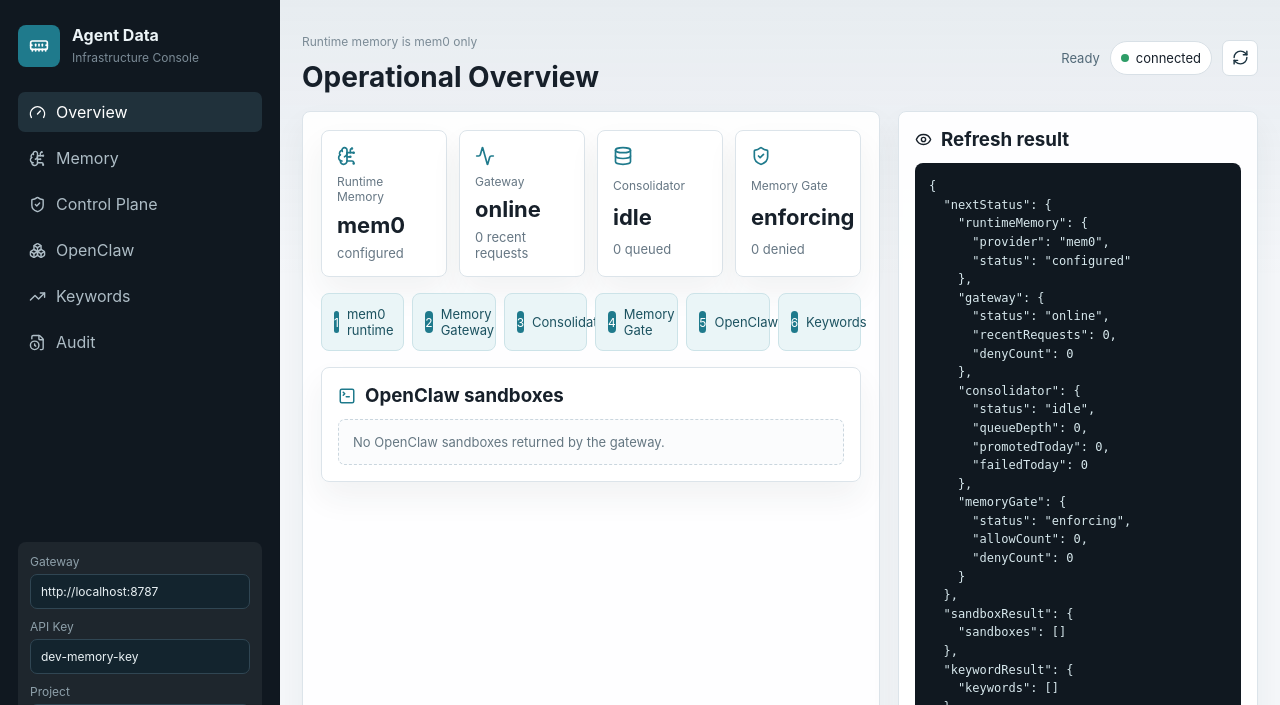
Test: App › renders backend empty states instead of demo data
Expected: the text "connected" is shown, x1=1110 y1=41 x2=1212 y2=75
Click the button "OpenClaw".
click(140, 250)  # box x1=18 y1=230 x2=262 y2=270
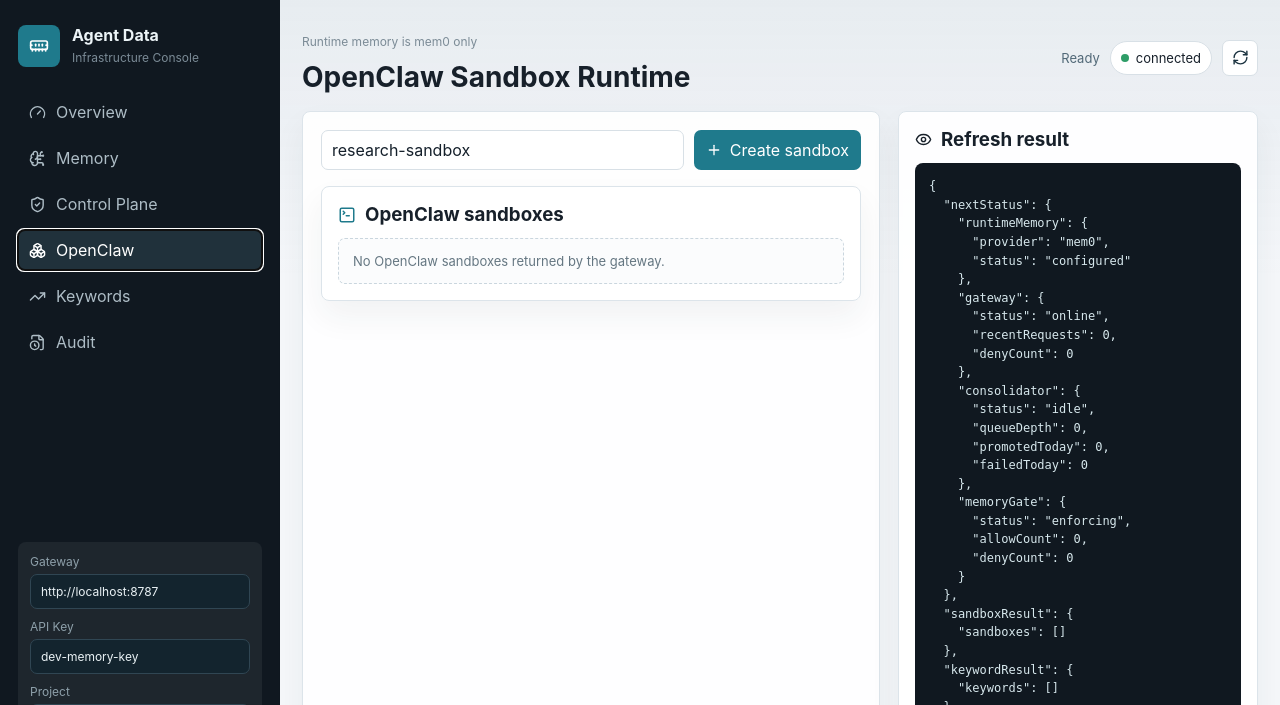
Expected: the text "No OpenClaw sandboxes returned by the gateway." is shown, x1=338 y1=238 x2=844 y2=284
Click the button "Keywords".
click(140, 296)  # box x1=18 y1=276 x2=262 y2=316
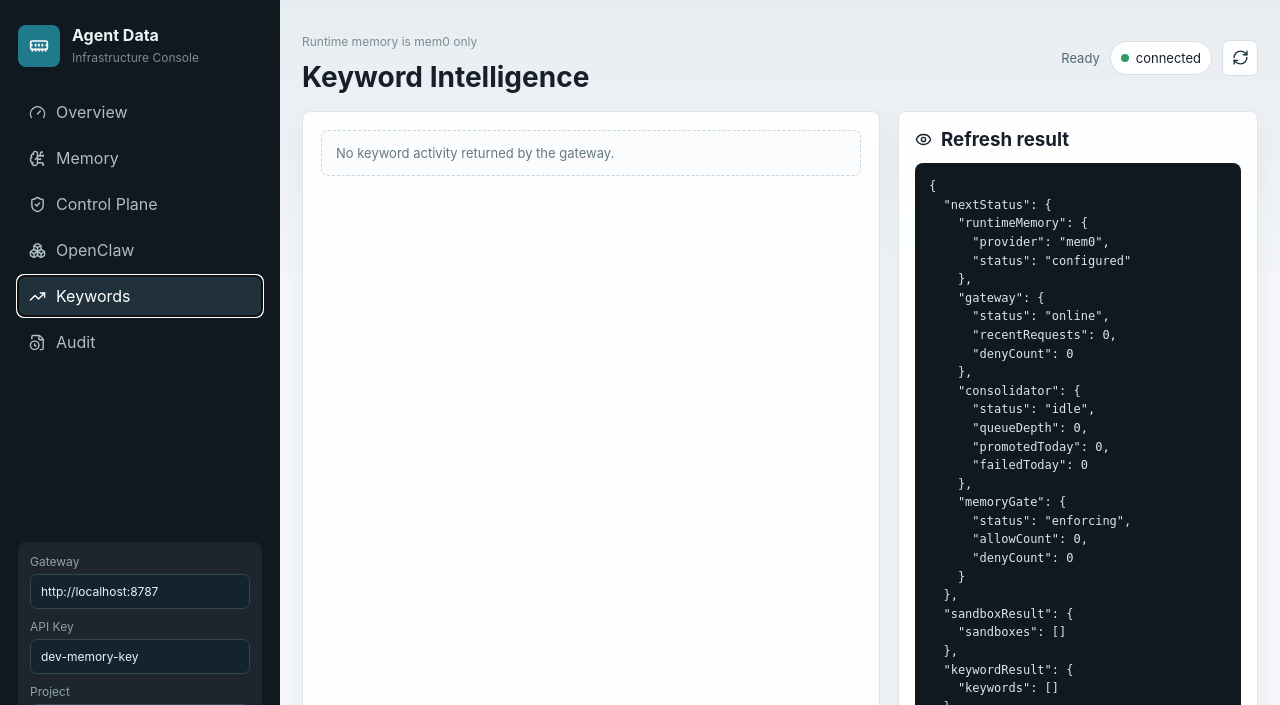
Result: the text "No keyword activity returned by the gateway." is shown at x1=321 y1=130 x2=861 y2=176
Click the button "Audit".
click(140, 342)  # box x1=18 y1=322 x2=262 y2=362
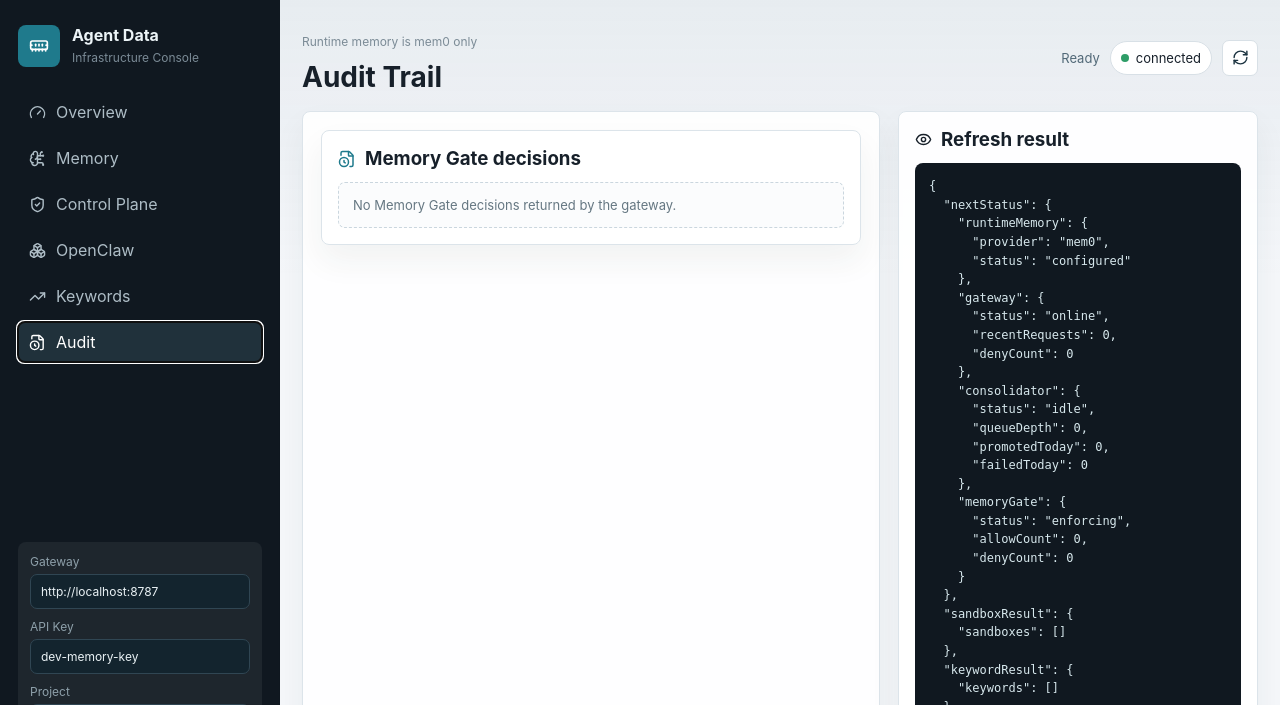
Result: the text "No Memory Gate decisions returned by the gateway." is shown at x1=338 y1=182 x2=844 y2=228
